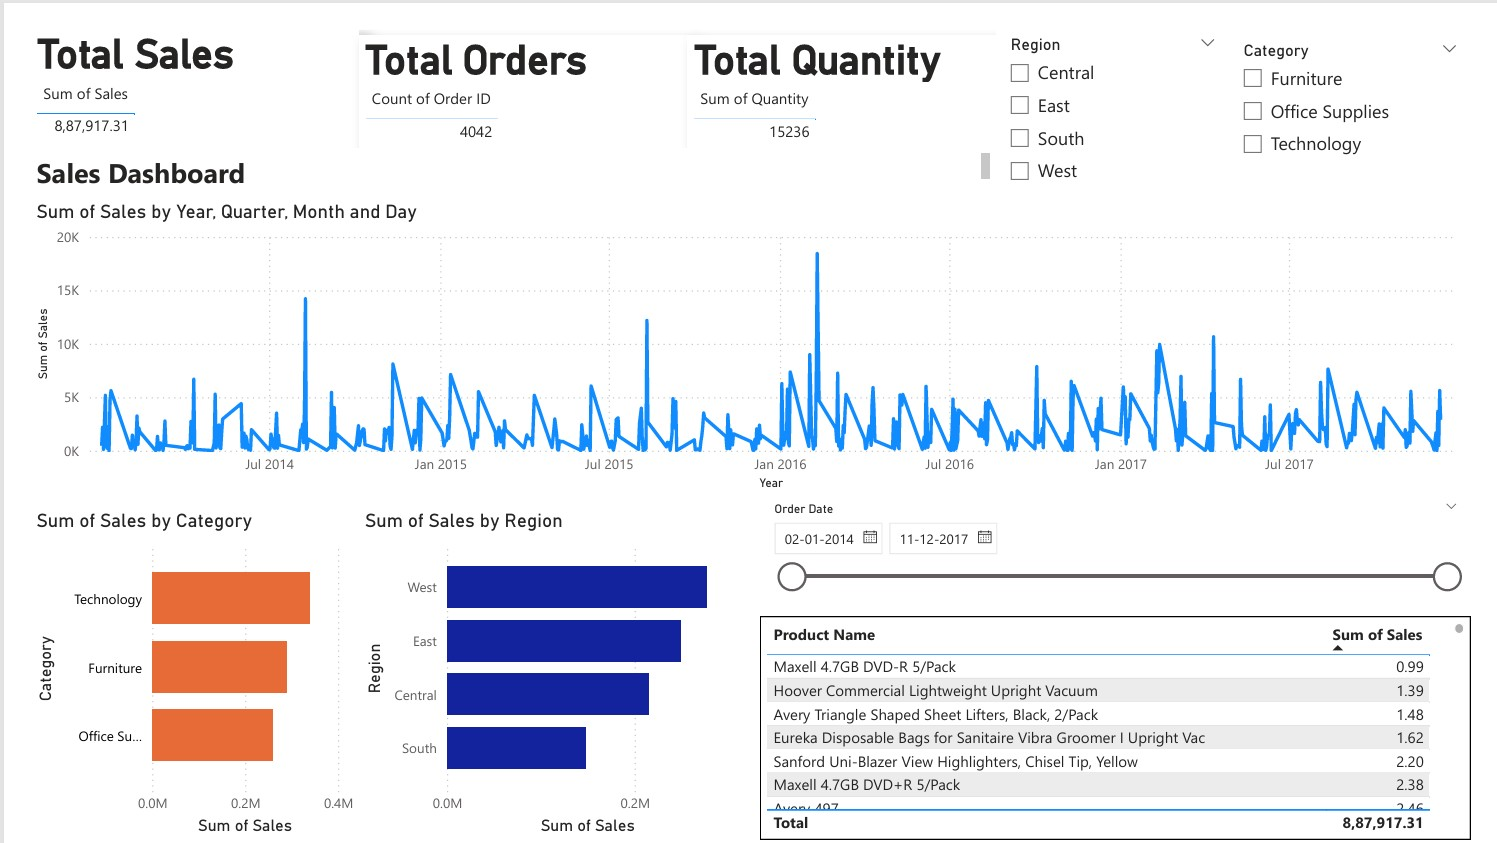

Layout of this report page (visuals, bound fields, positions):
{"tool":"powerbi","page":{"name":"Page 1","canvas":[1280,720],"ordinal":0},"visuals":[{"type":"tableEx","title":"Total Sales","fields":{"Values":["Sum(Suprstore.Sales)"]},"box":[0,0,292,105],"z":0},{"type":"tableEx","title":"Total Orders","fields":{"Values":["Suprstore.Order ID"]},"box":[292,4.8,292,105],"z":1000},{"type":"tableEx","title":"Total Quantity","fields":{"Values":["Sum(Suprstore.Quantity)"]},"box":[583.9,4.8,273.9,105],"z":2000},{"type":"lineChart","fields":{"Y":["Sum(Suprstore.Sales)"],"Category":["Suprstore.Order Date - Copy.Variation.Date Hierarchy.Year","Suprstore.Order Date - Copy.Variation.Date Hierarchy.Quarter","Suprstore.Order Date - Copy.Variation.Date Hierarchy.Month","Suprstore.Order Date - Copy.Variation.Date Hierarchy.Day"]},"box":[0,150.8,1280,263],"z":3000},{"type":"barChart","fields":{"Category":["Suprstore.Category"],"Y":["Sum(Suprstore.Sales)"]},"box":[0,425.9,292,276.3],"z":4000},{"type":"barChart","fields":{"Category":["Suprstore.Region"],"Y":["Sum(Suprstore.Sales)"]},"box":[292,425.9,347.5,276.3],"z":5000},{"type":"tableEx","fields":{"Values":["Suprstore.Product Name","Sum(Suprstore.Sales)"]},"box":[647.9,521.2,632.2,199.1],"z":6000},{"type":"slicer","fields":{"Values":["Suprstore.Category"]},"box":[1065.3,4.8,214.7,177.3],"z":7000},{"type":"slicer","fields":{"Values":["Suprstore.Region"]},"box":[857.8,0,207.5,150.8],"z":8000},{"type":"slicer","fields":{"Values":["Suprstore.Order Date"]},"box":[661.1,413.8,618.9,97.7],"z":9000},{"type":"textbox","box":[0,105,243.7,37.4],"z":10000}]}

Visuals, with their boxes in screenshot pixels (x1, y1, x2, y2), scaled from the page's 1280x720 canvas onto the 1497x843 screenshot:
"Total Sales" tableEx: (0,0,342,123)
"Total Orders" tableEx: (342,6,683,129)
"Total Quantity" tableEx: (683,6,1003,129)
lineChart - Sum(Suprstore.Sales) x Suprstore.Order Date - Copy.Variation.Date Hierarchy.Year: (0,177,1496,484)
barChart - Suprstore.Category x Sum(Suprstore.Sales): (0,499,342,822)
barChart - Suprstore.Region x Sum(Suprstore.Sales): (342,499,748,822)
tableEx - Suprstore.Product Name x Sum(Suprstore.Sales): (758,610,1496,842)
slicer - Suprstore.Category: (1246,6,1496,213)
slicer - Suprstore.Region: (1003,0,1246,177)
slicer - Suprstore.Order Date: (773,484,1496,599)
textbox: (0,123,285,167)
